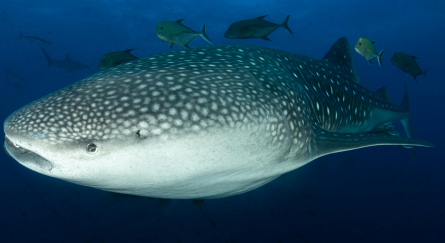fishLarge: (154, 16, 214, 49), (224, 14, 293, 42), (97, 47, 141, 75), (389, 52, 428, 83), (355, 37, 385, 68), (17, 32, 52, 46)
shark: (3, 37, 434, 199), (41, 48, 91, 74)
